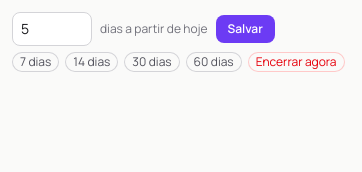
Scenario: TrialSetter › os atalhos só preenchem o campo: nada é salvo até clicar em Salvar
Click the button "30 dias" at x=152, y=62, box [124,52,180,72]
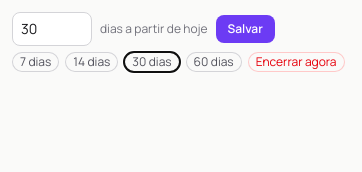
Expected: the number field named "dias de teste a partir de hoje" holds "30", [12,12,92,46]
